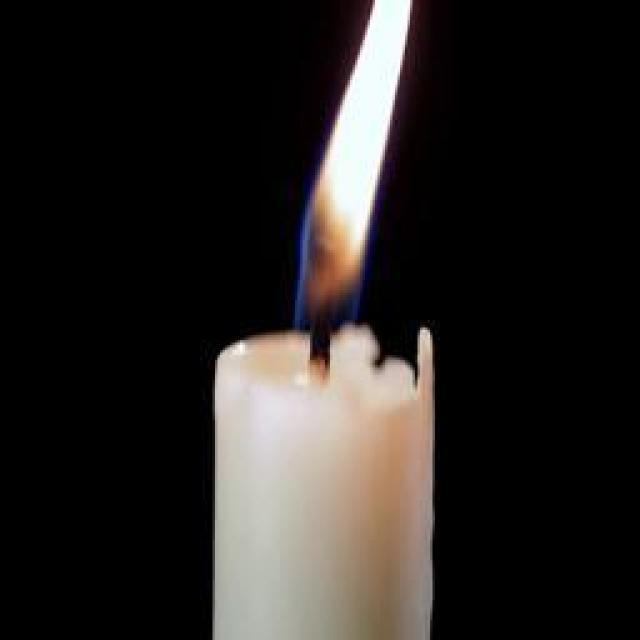Fire: (296, 0, 411, 332)
